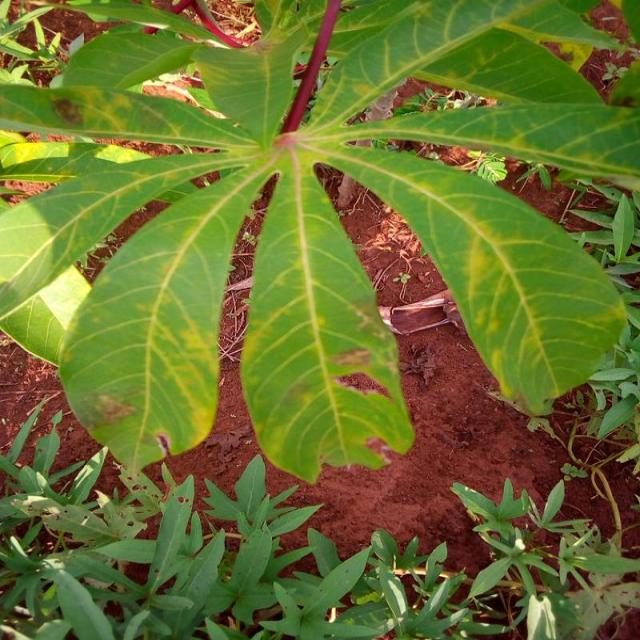cassava leaf: (0, 1, 638, 484), (312, 140, 629, 417), (56, 154, 266, 474), (239, 142, 415, 484)
